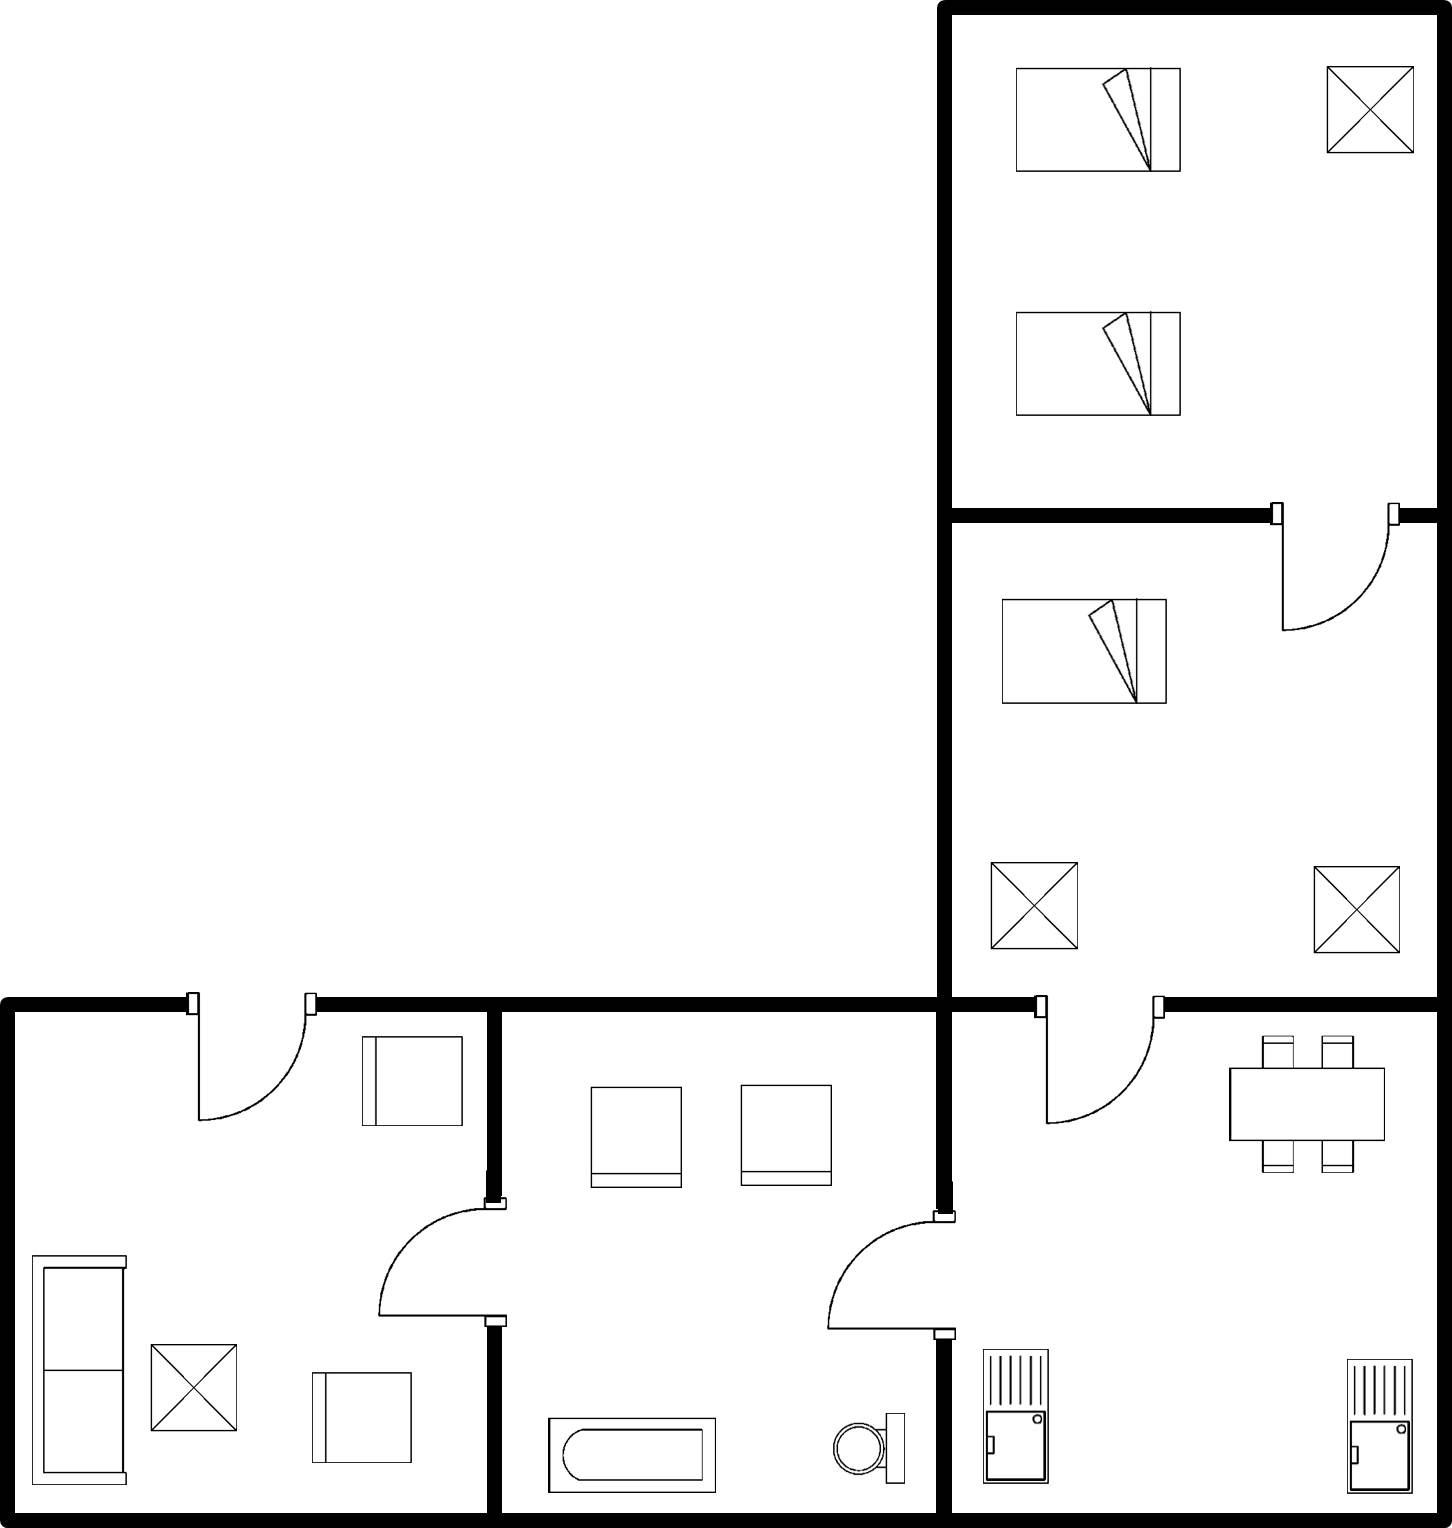bed: (990, 586, 1178, 718), (1005, 297, 1192, 429), (1005, 59, 1192, 186)
coffee_table: (138, 1333, 250, 1445), (1317, 56, 1426, 171), (1302, 856, 1410, 969), (977, 851, 1090, 956)
dining_table: (1216, 1026, 1404, 1184)
large_sink: (822, 1399, 922, 1493)
large_sofa: (23, 1244, 138, 1494)
sink: (974, 1341, 1059, 1497), (1337, 1345, 1422, 1500)
small_sofa: (726, 1074, 850, 1199), (575, 1078, 695, 1200), (347, 1026, 474, 1141), (299, 1360, 420, 1477)
tub: (531, 1405, 729, 1503)
